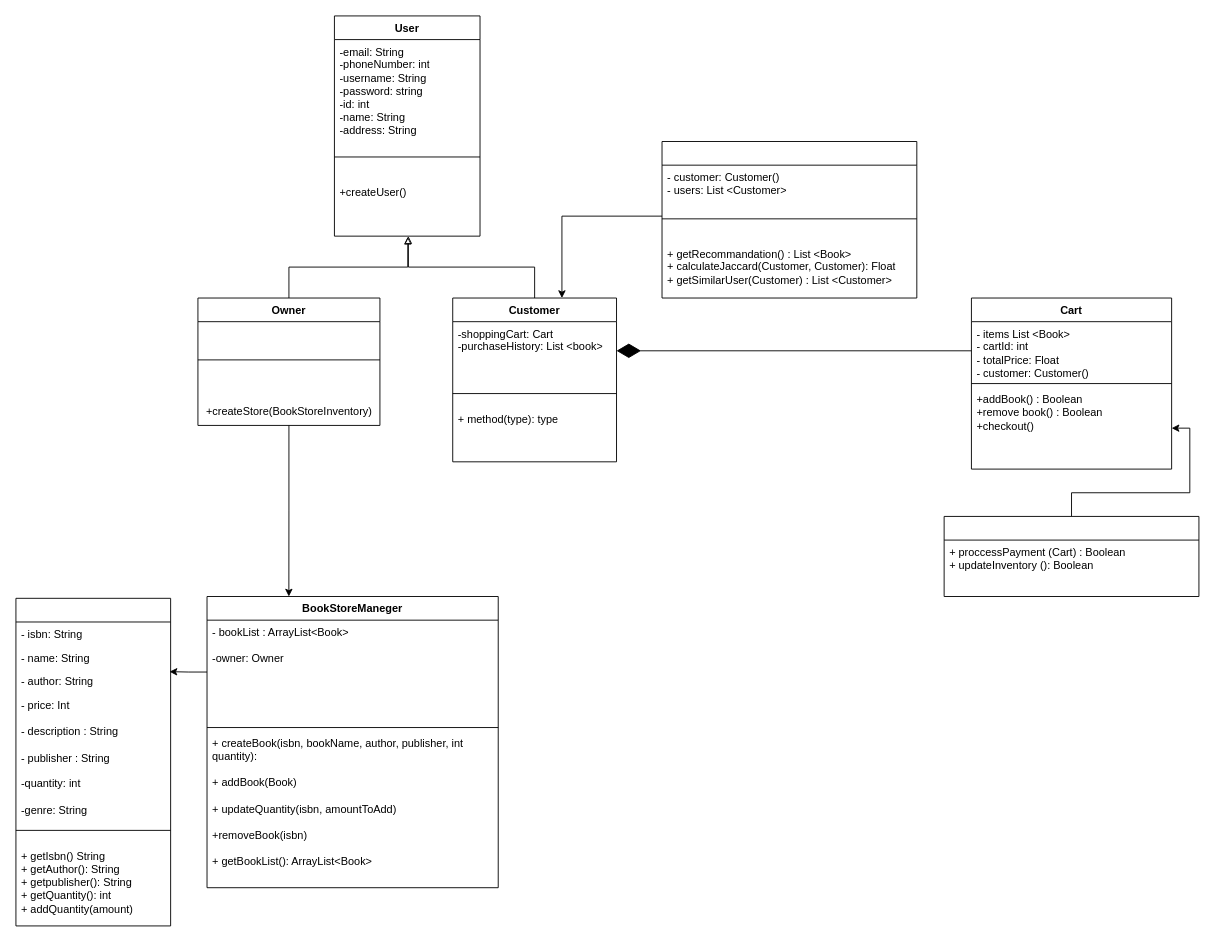
Image size: 1215x945. Some labels were removed from this diagram. The box of each missing label's shape, as (x1, y1, x2, y2) in pixels:
Book: (15, 597, 171, 926)
PaymentProcessor: (943, 516, 1199, 597)
Recomandation: (661, 141, 917, 298)
